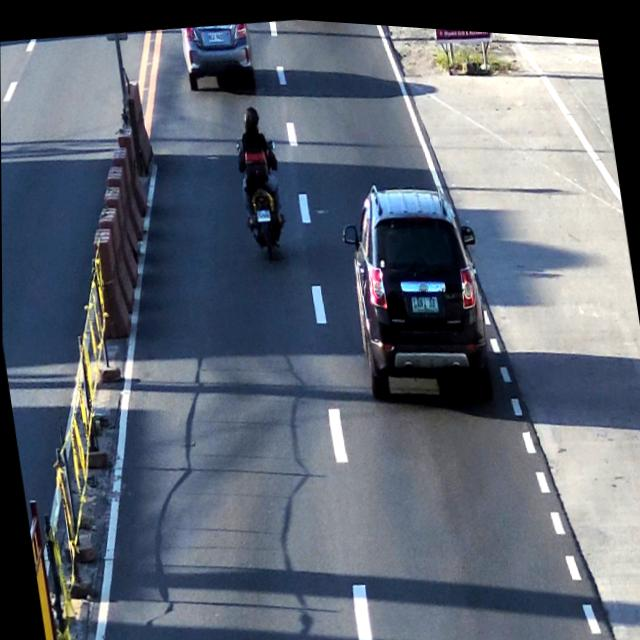Car: (339, 171, 488, 405), (179, 16, 258, 95)
License-Plate: (409, 283, 441, 312), (254, 202, 274, 220), (205, 27, 224, 42)
Motorcycle: (232, 104, 291, 261)
